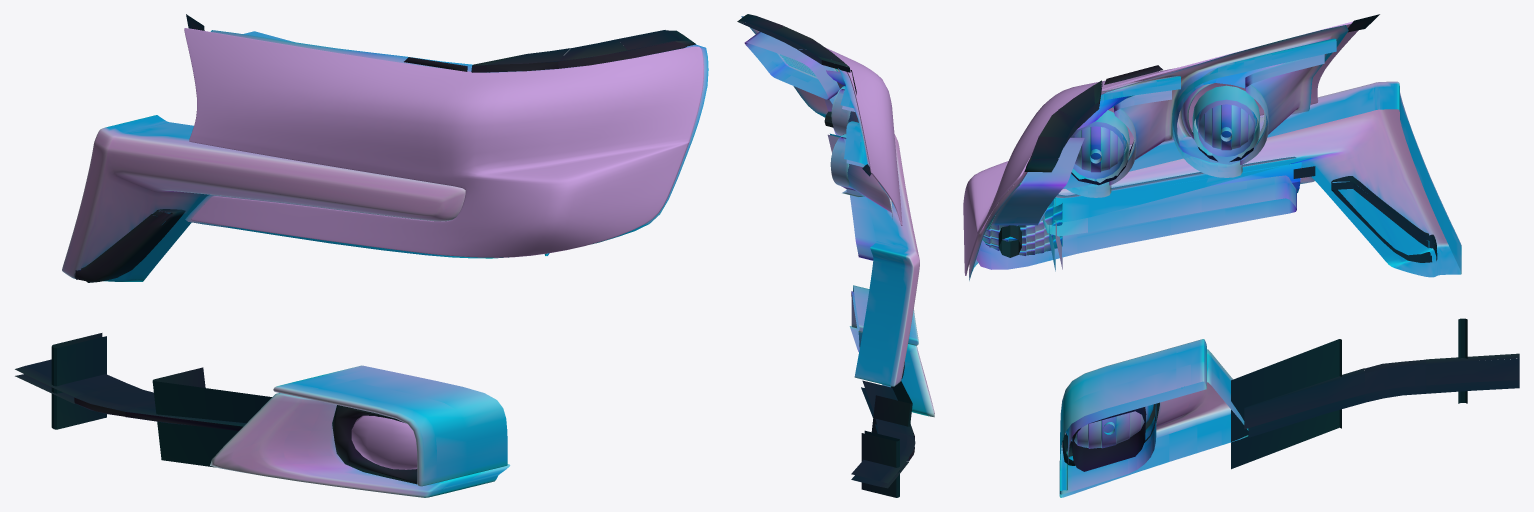
Rendered from lamp_front_L.glb.
3 renders of one model, left to right at view 1: azimuth 30°, elevation 25°; view 2: azimuth 150°, elevation 25°; view 3: azimuth 270°, elevation 25°, orthographic. The views are drawn at different scales.
Visible parts, largest first — view 1: clearglass_27, chrome_3, black_12, chrome_4; view 2: chrome_3, black_12, chrome_4, clearglass_27, chrome_0; view 3: chrome_3, chrome_4, black_12, clearglass_27.
Boxes of the visible parts, left/top/right/bottom form: clearglass_27: left=184, top=28, right=703, bottom=469; chrome_3: left=62, top=30, right=708, bottom=281; black_12: left=15, top=14, right=695, bottom=484; chrome_4: left=210, top=31, right=510, bottom=497; chrome_3: left=741, top=16, right=919, bottom=386; black_12: left=737, top=14, right=915, bottom=497; chrome_4: left=827, top=86, right=934, bottom=417; clearglass_27: left=825, top=47, right=902, bottom=225; chrome_0: left=758, top=31, right=837, bottom=77; chrome_3: left=969, top=25, right=1461, bottom=434; chrome_4: left=1049, top=38, right=1336, bottom=497; black_12: left=998, top=14, right=1519, bottom=471; clearglass_27: left=963, top=21, right=1358, bottom=275.
Size of the model in its own units: 0.5705 by 0.5307 by 0.5873.
